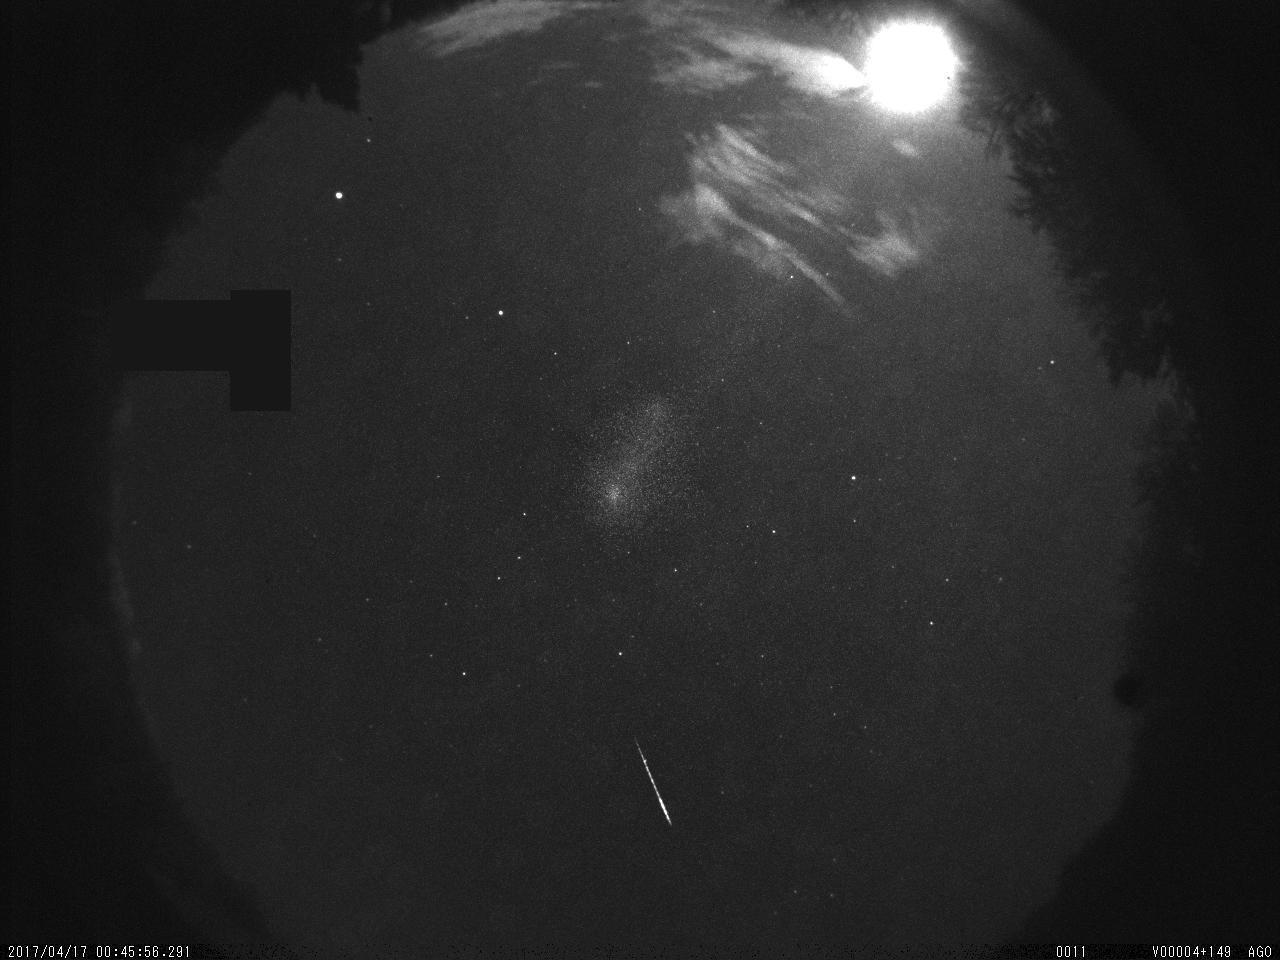meteor: (623, 733, 679, 845)
